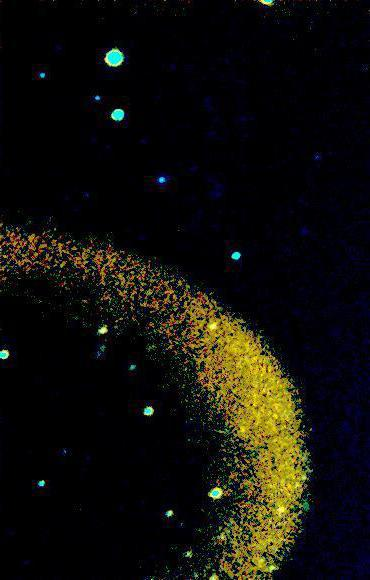star: (229, 413, 259, 443)
